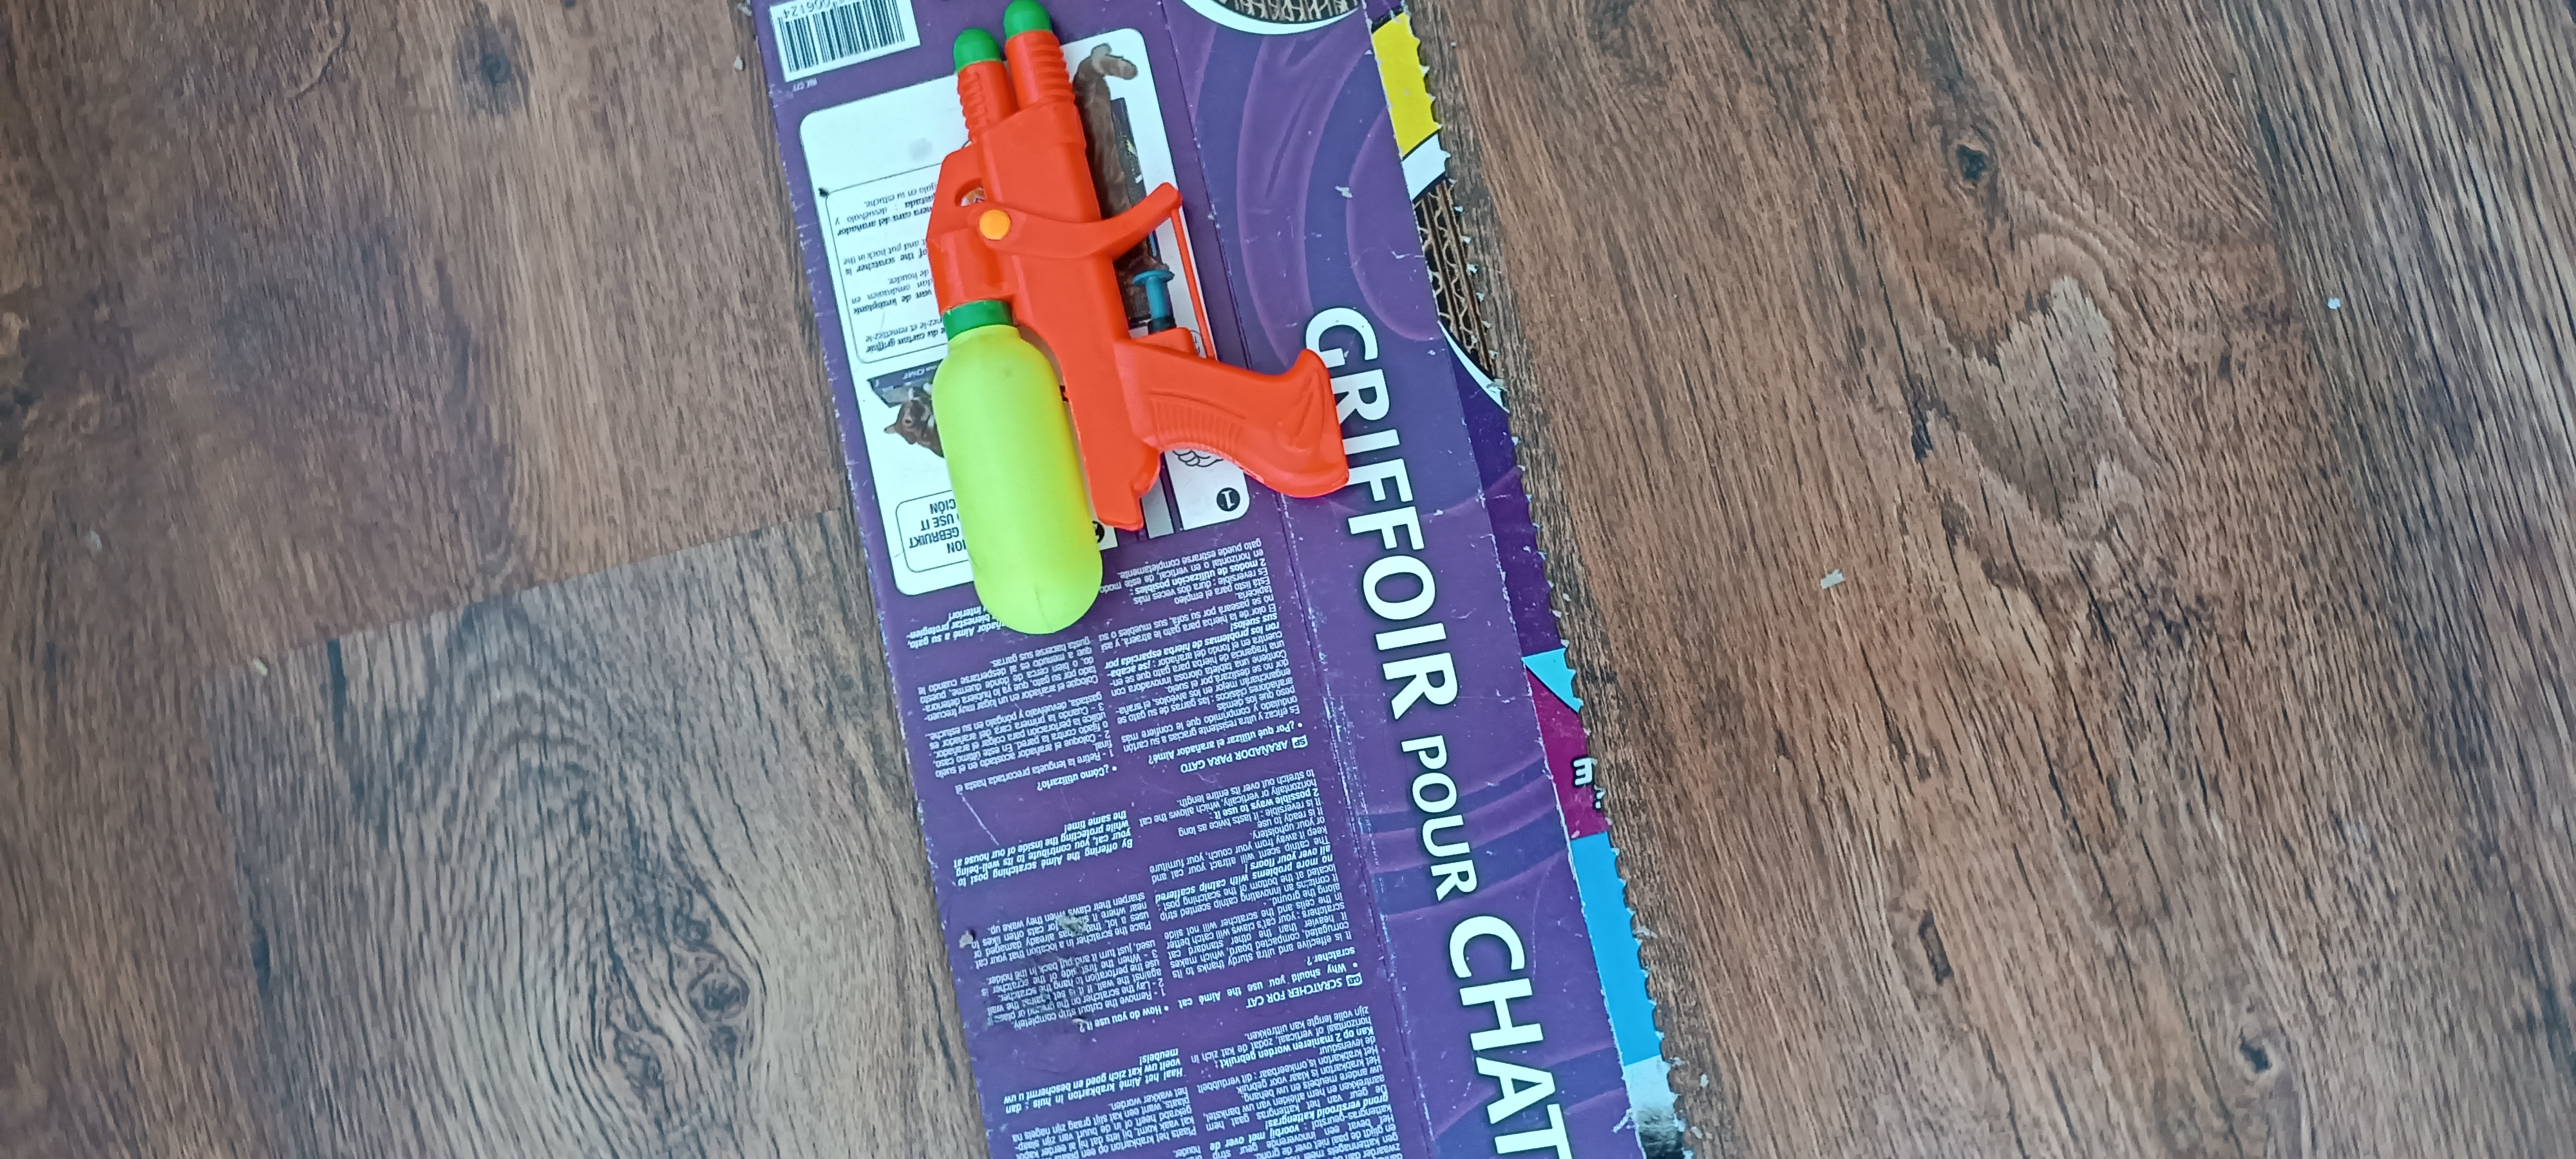Water Gun: (925, 0, 1350, 639)
